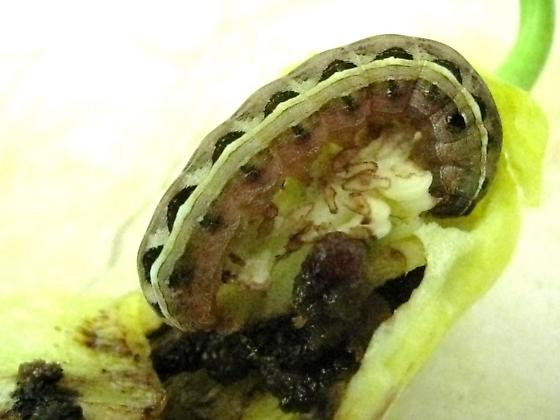Armyworm: (128, 17, 517, 339)
